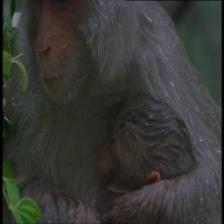monkey: (14, 0, 92, 126), (94, 96, 142, 202)
